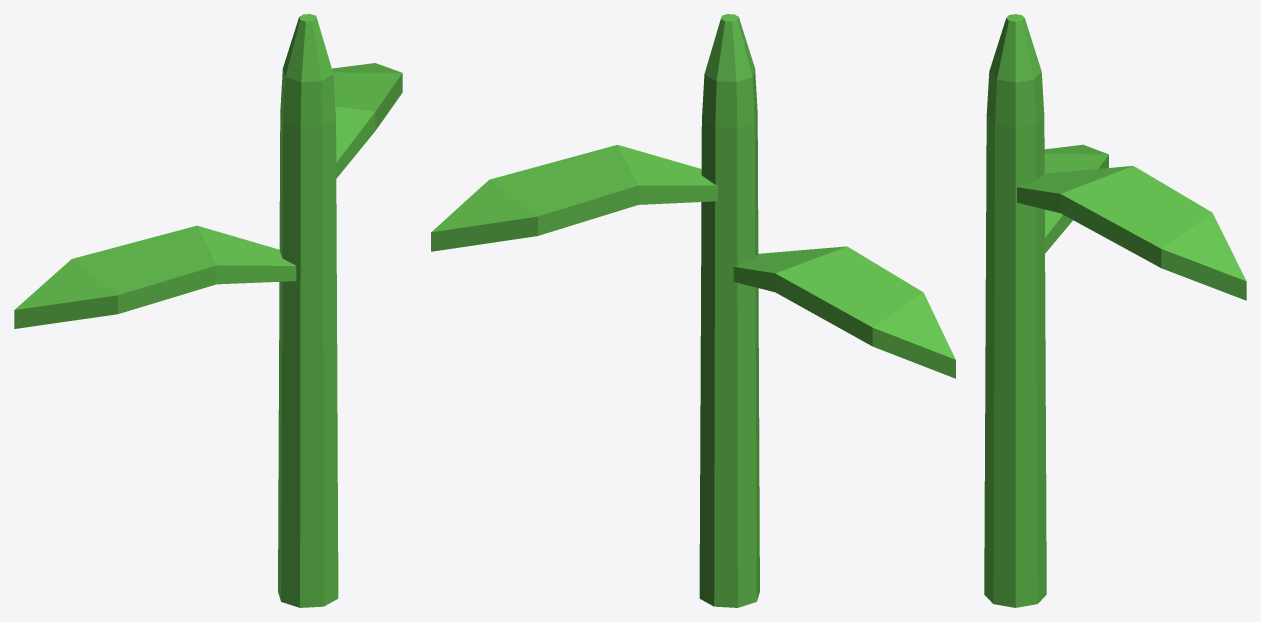
The model's file is corn_seedling.fbx.
The picture shows the model from 3 angles, left to right: view 1: azimuth 30°, elevation 25°; view 2: azimuth 150°, elevation 25°; view 3: azimuth 270°, elevation 25°; orthographic projection.
Visible parts, largest first — view 1: corn_seedling; view 2: corn_seedling; view 3: corn_seedling.
Part boxes in pixels (x1,y1,x2,y2): corn_seedling: (14,14,402,607); corn_seedling: (431,14,955,607); corn_seedling: (984,14,1246,607).
Size of the model in its own units: 27.75 by 34.57 by 14.25.
